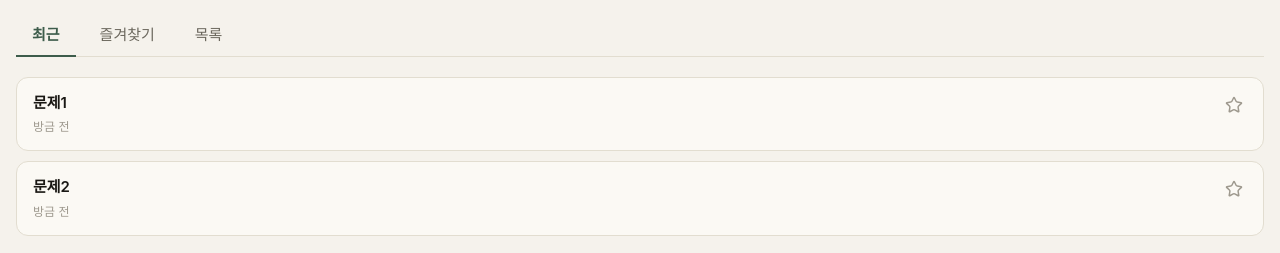
Scenario: NotesPage › 다중 선택 모드: 카드 클릭으로 선택 토글
Press the mouse on the button with test id "note-card" showing "문제1 방금 전" at (50, 102), box [16,76,1264,151]
Wait 500 ms
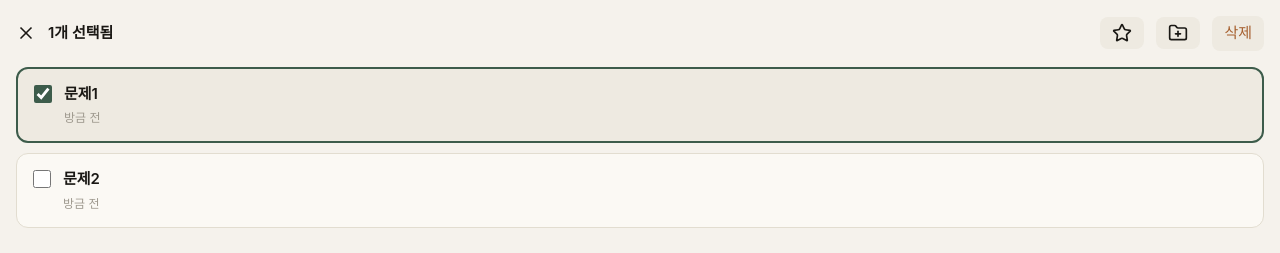
Click the button with test id "note-card" showing "문제2 방금 전" at (81, 178), box [16,153,1264,228]
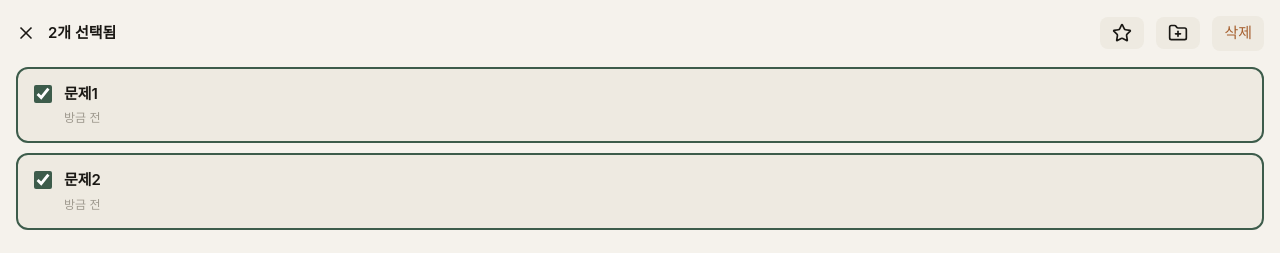
Expected: the element with test id "select-bar" shows "2개 선택됨", [16,16,1264,50]
